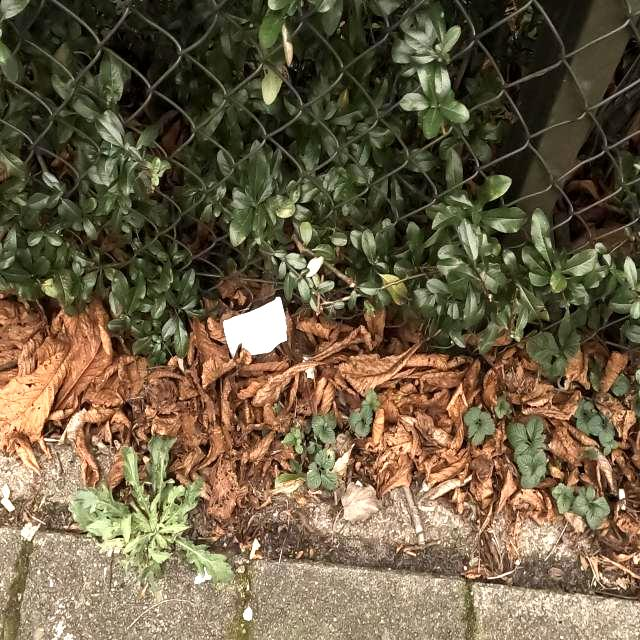Paper: (222, 296, 288, 358)
